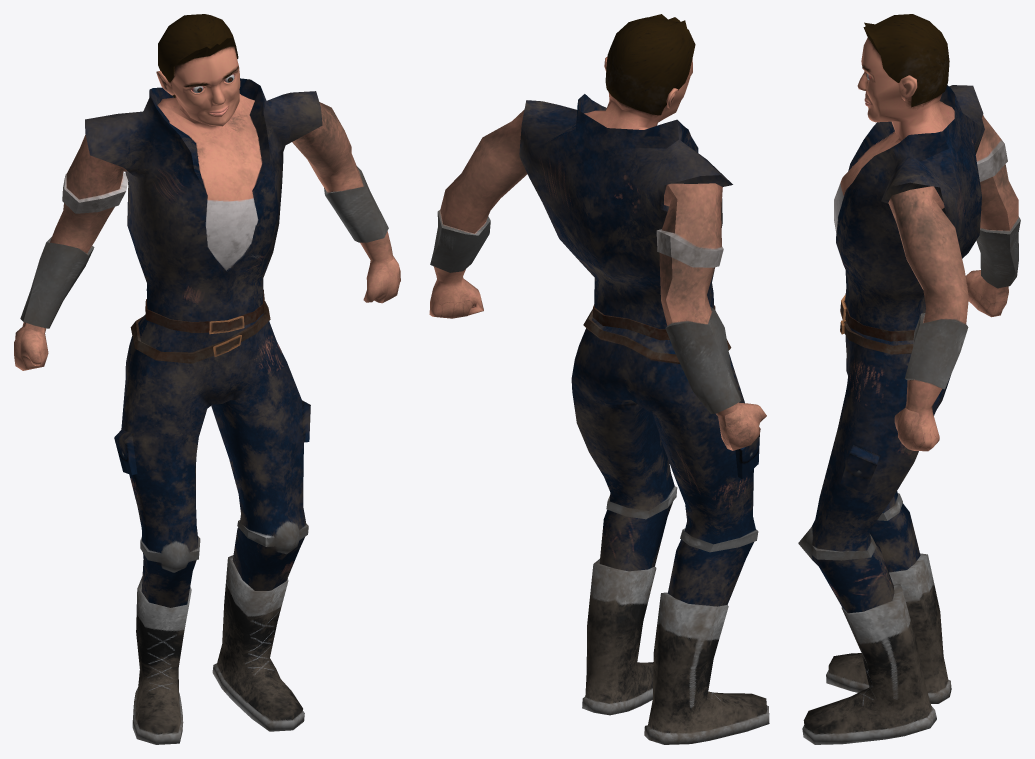
The model's file is Anim_recibirdanyo_jugador.0023.obj.
3 renders of one model, left to right at view 1: azimuth 30°, elevation 25°; view 2: azimuth 150°, elevation 25°; view 3: azimuth 270°, elevation 25°, orthographic. The views are drawn at different scales.
Parts seen in each view (by area): view 1: polySurface1; view 2: polySurface1; view 3: polySurface1.
Boxes of the visible parts, x1,y1,x2,y2 form: polySurface1: [14, 14, 400, 744]; polySurface1: [429, 14, 769, 744]; polySurface1: [798, 14, 1020, 744].
Size of the model in its own units: 5.05 by 9.44 by 2.73.
